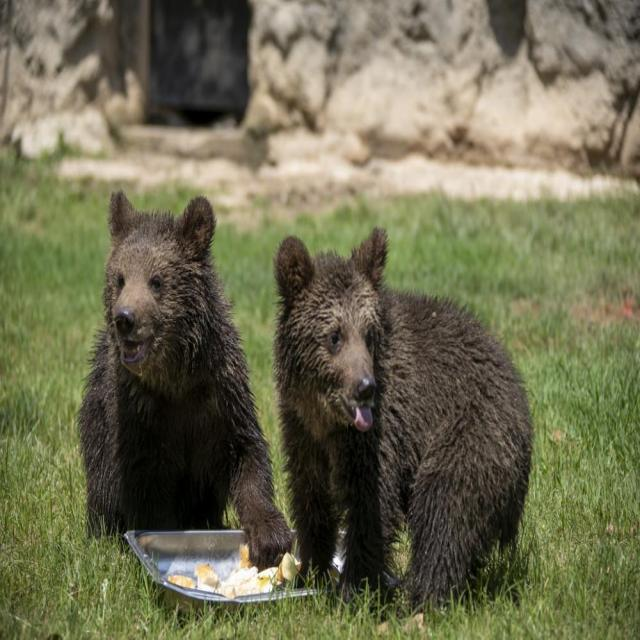Bear: (273, 229, 534, 610), (77, 192, 294, 573)
